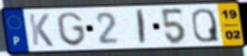2: (95, 11, 121, 46)
5: (160, 6, 188, 46)
G: (55, 11, 88, 48)
I: (137, 9, 147, 46)
K: (27, 13, 56, 48)
Q: (190, 7, 222, 44)
